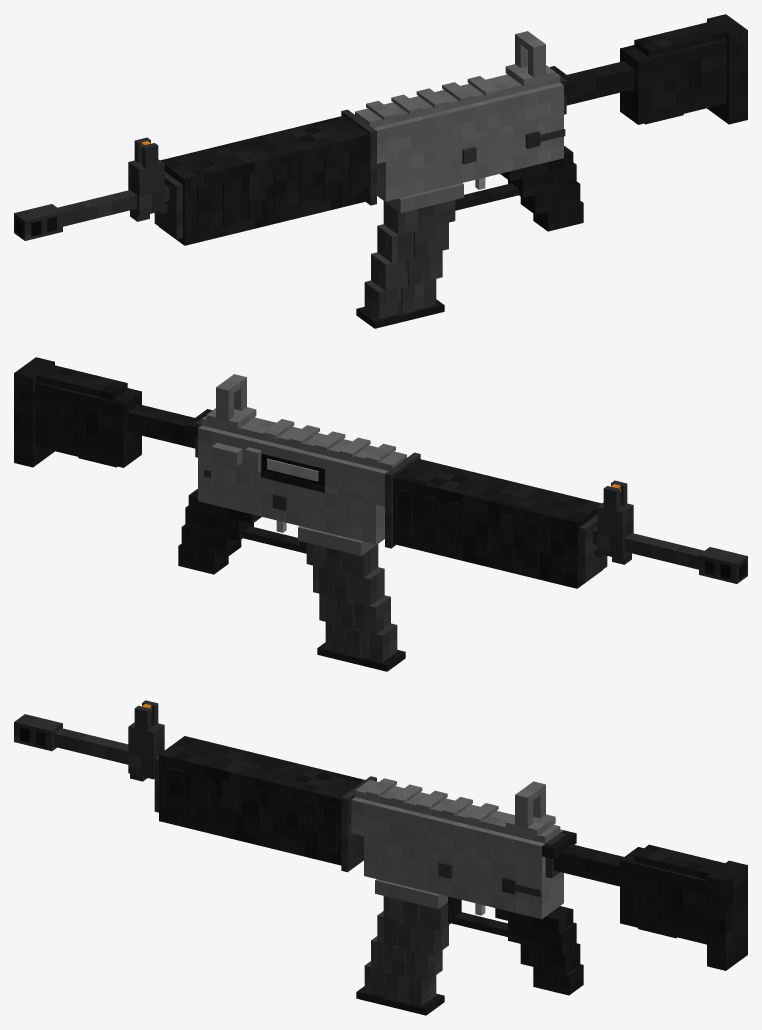
File: BiryusaBk10.glb
3 views of the same model, one above another, from view 1: azimuth 30°, elevation 25°; view 2: azimuth 150°, elevation 25°; view 3: azimuth 330°, elevation 25° (orthographic).
Parts seen in each view (by area): view 1: Handguard, Upper receiver, Lower receiver, Stock body, Top rail, Buffer tube, Butt plate, Stock cheek rest, Magazine step 3, Magazine step 2, Magazine step 1, Barrel (+22 smaller); view 2: Handguard, Lower receiver, Stock body, Upper receiver, Top rail, Buffer tube, Butt plate, Stock cheek rest, Magazine step 3, Magazine step 2, Magazine step 1, Barrel (+25 smaller); view 3: Handguard, Lower receiver, Upper receiver, Stock body, Butt pad, Top rail, Buffer tube, Stock cheek rest, Magazine step 3, Barrel, Magazine step 1, Magazine step 2 (+21 smaller).
Part boxes in pixels (bbox=[...]): Handguard: bbox=[159, 116, 368, 245]; Upper receiver: bbox=[373, 82, 563, 163]; Lower receiver: bbox=[377, 118, 563, 201]; Stock body: bbox=[620, 39, 726, 124]; Top rail: bbox=[355, 73, 560, 127]; Buffer tube: bbox=[566, 61, 634, 105]; Butt plate: bbox=[707, 15, 741, 124]; Stock cheek rest: bbox=[634, 21, 725, 57]; Magazine step 3: bbox=[364, 279, 436, 319]; Magazine step 2: bbox=[371, 250, 442, 290]; Magazine step 1: bbox=[377, 222, 448, 262]; Barrel: bbox=[57, 184, 169, 226]; Handguard: bbox=[393, 459, 602, 588]; Lower receiver: bbox=[198, 461, 384, 544]; Stock body: bbox=[35, 382, 141, 467]; Upper receiver: bbox=[198, 425, 388, 506]; Top rail: bbox=[201, 416, 406, 470]; Buffer tube: bbox=[127, 404, 195, 448]; Butt plate: bbox=[20, 358, 54, 467]; Stock cheek rest: bbox=[36, 364, 127, 400]; Magazine step 3: bbox=[325, 622, 397, 662]; Magazine step 2: bbox=[319, 593, 390, 633]; Magazine step 1: bbox=[313, 565, 384, 605]; Barrel: bbox=[592, 527, 704, 569]; Handguard: bbox=[159, 736, 364, 865]; Lower receiver: bbox=[364, 836, 563, 919]; Upper receiver: bbox=[351, 797, 563, 879]; Stock body: bbox=[620, 847, 706, 944]; Butt pad: bbox=[719, 863, 747, 970]; Top rail: bbox=[355, 780, 560, 843]; Buffer tube: bbox=[553, 844, 623, 886]; Stock cheek rest: bbox=[634, 844, 724, 879]; Magazine step 3: bbox=[364, 961, 436, 1005]; Barrel: bbox=[54, 728, 128, 764]; Magazine step 1: bbox=[377, 911, 448, 955]; Magazine step 2: bbox=[371, 936, 442, 980].
Size of the model in its own units: 0.7776 by 0.2509 by 0.0584.
1 material, 1 textured.
